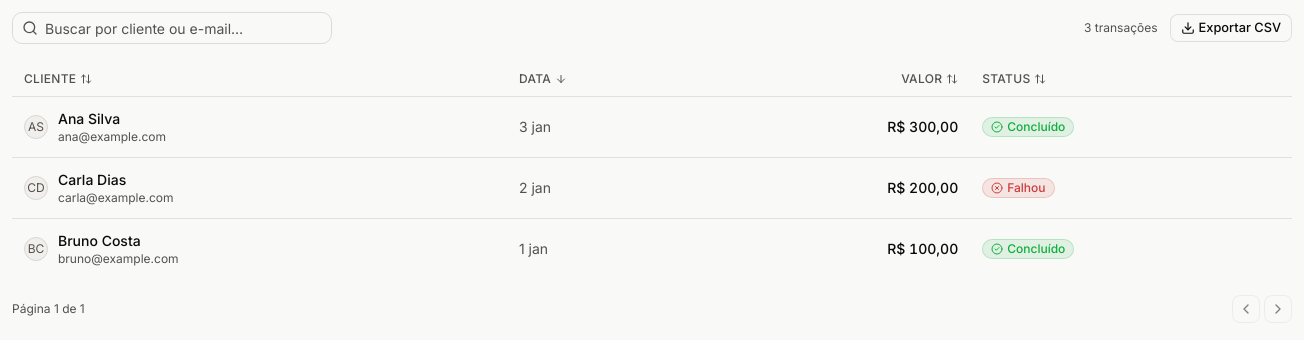
Scenario: TransactionsTable › filters by customer email too
In the field named "Buscar transações": (172, 28) [12,12,332,44], type "carla@example.com"
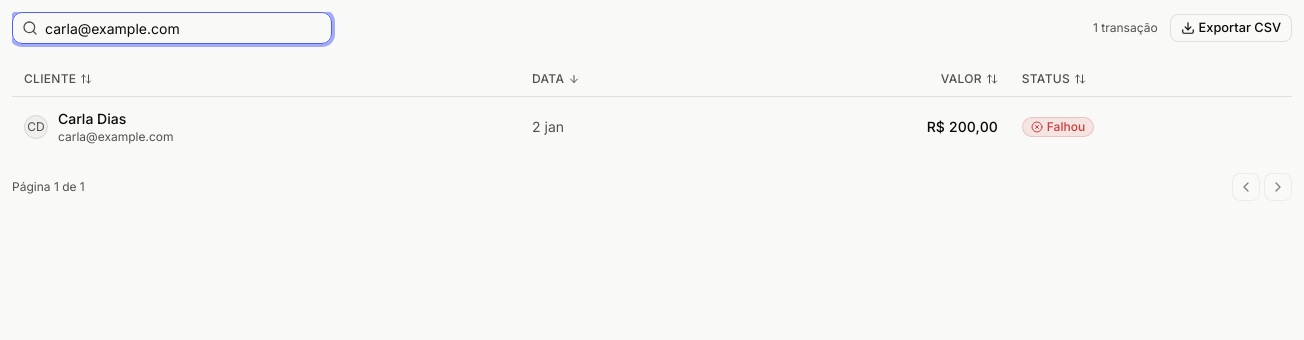
Expected: the text "1 transação" is shown, [1093,20,1158,36]
